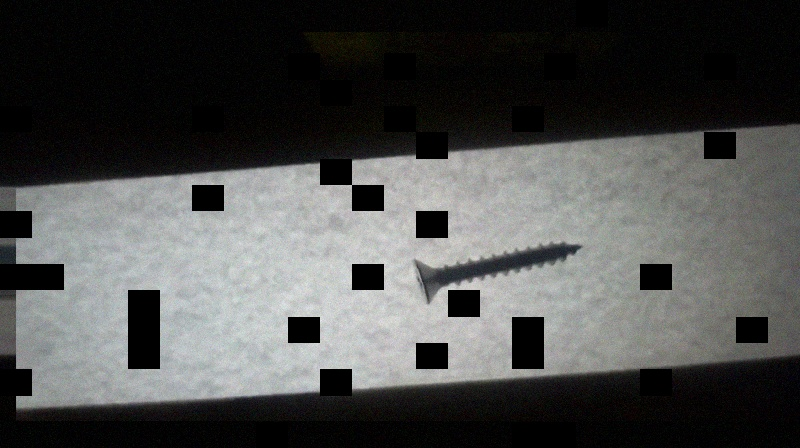S001: (410, 234, 588, 306)
